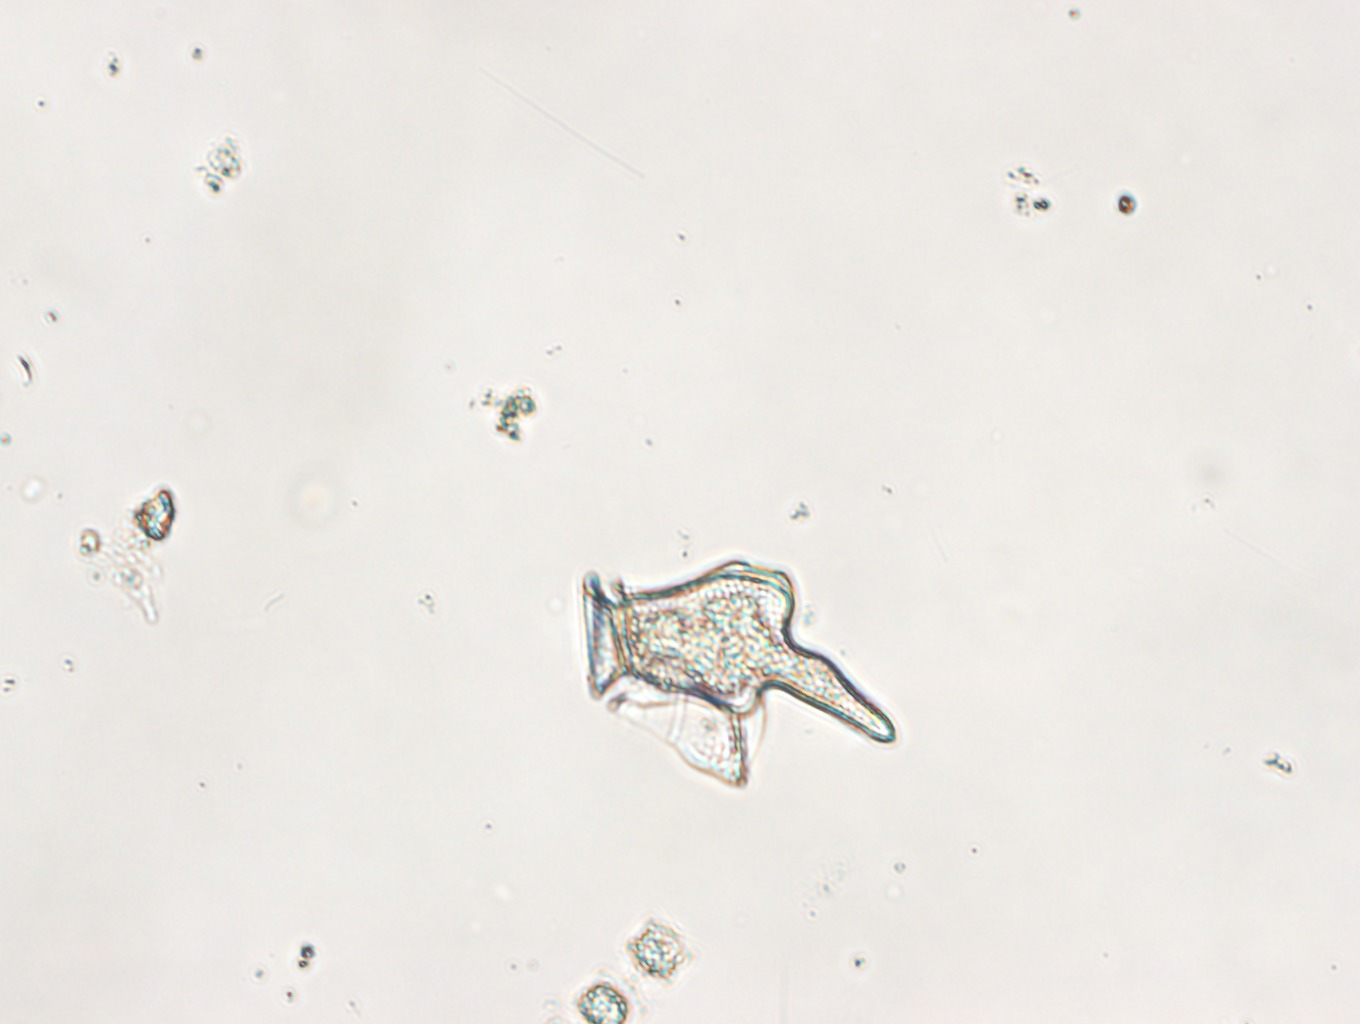dinophysis caudata: (579, 558, 896, 788)
